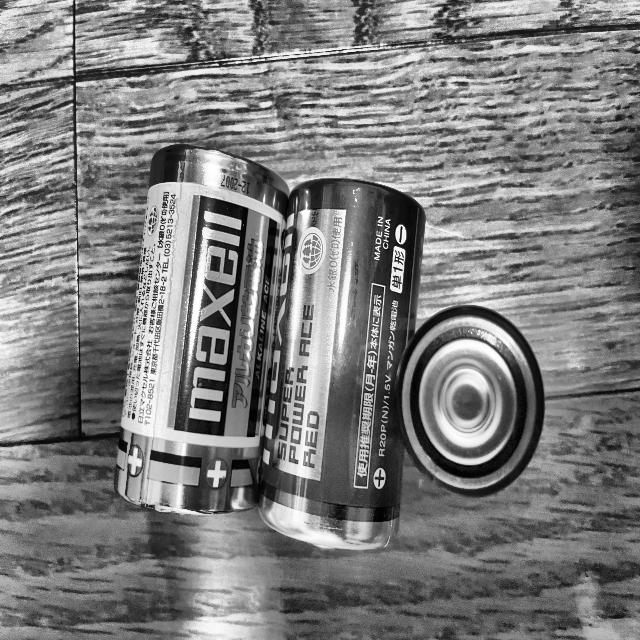drycell: (112, 139, 299, 522), (253, 174, 432, 556), (394, 292, 556, 508)
